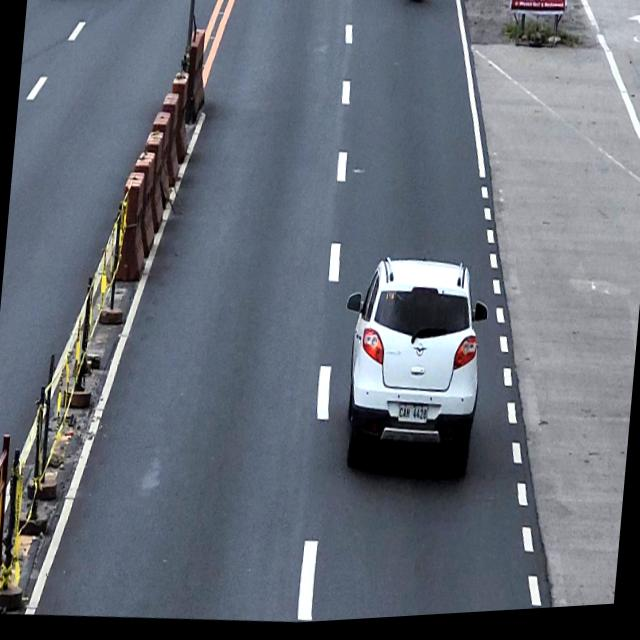Car: (332, 252, 492, 488)
License-Plate: (396, 404, 428, 431)
